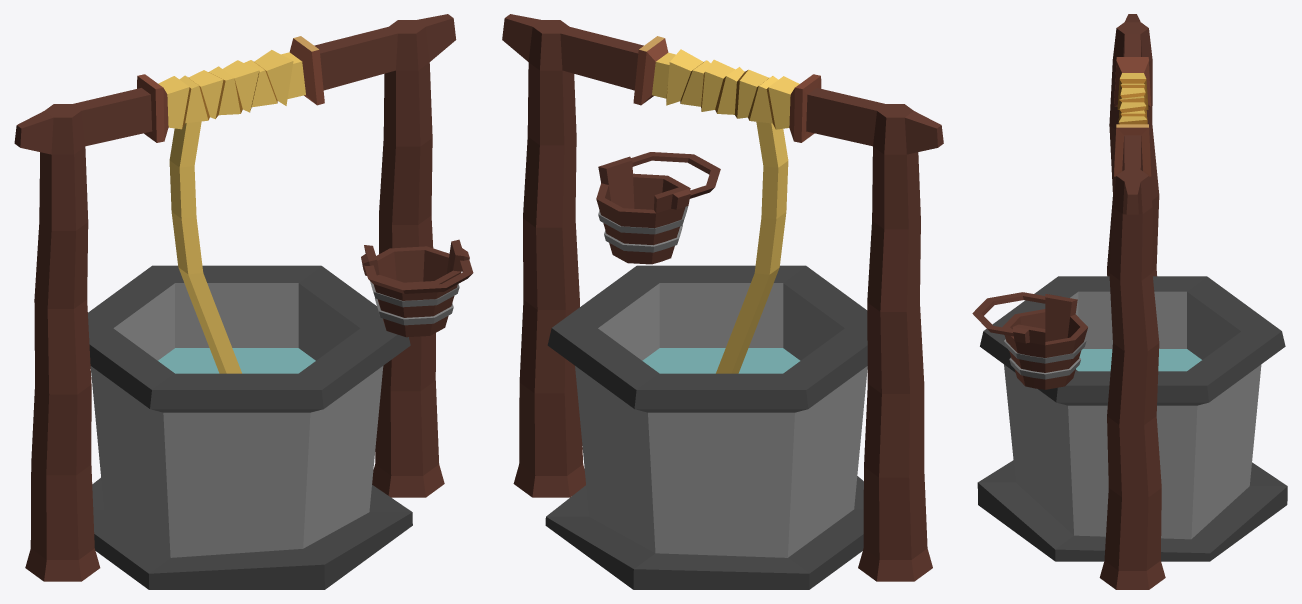
File: pozo.fbx
3 views of the same model, side by side, from view 1: azimuth 30°, elevation 25°; view 2: azimuth 150°, elevation 25°; view 3: azimuth 270°, elevation 25° (orthographic). The views are drawn at different scales.
Visible parts, largest first — view 1: Cylinder; view 2: Cylinder; view 3: Cylinder.
Boxes of the visible parts, <box> form: Cylinder: <box>14,14,473,589</box>; Cylinder: <box>502,14,943,589</box>; Cylinder: <box>972,14,1287,589</box>.
Size of the model in its own units: 6.44 by 6.58 by 4.6.
